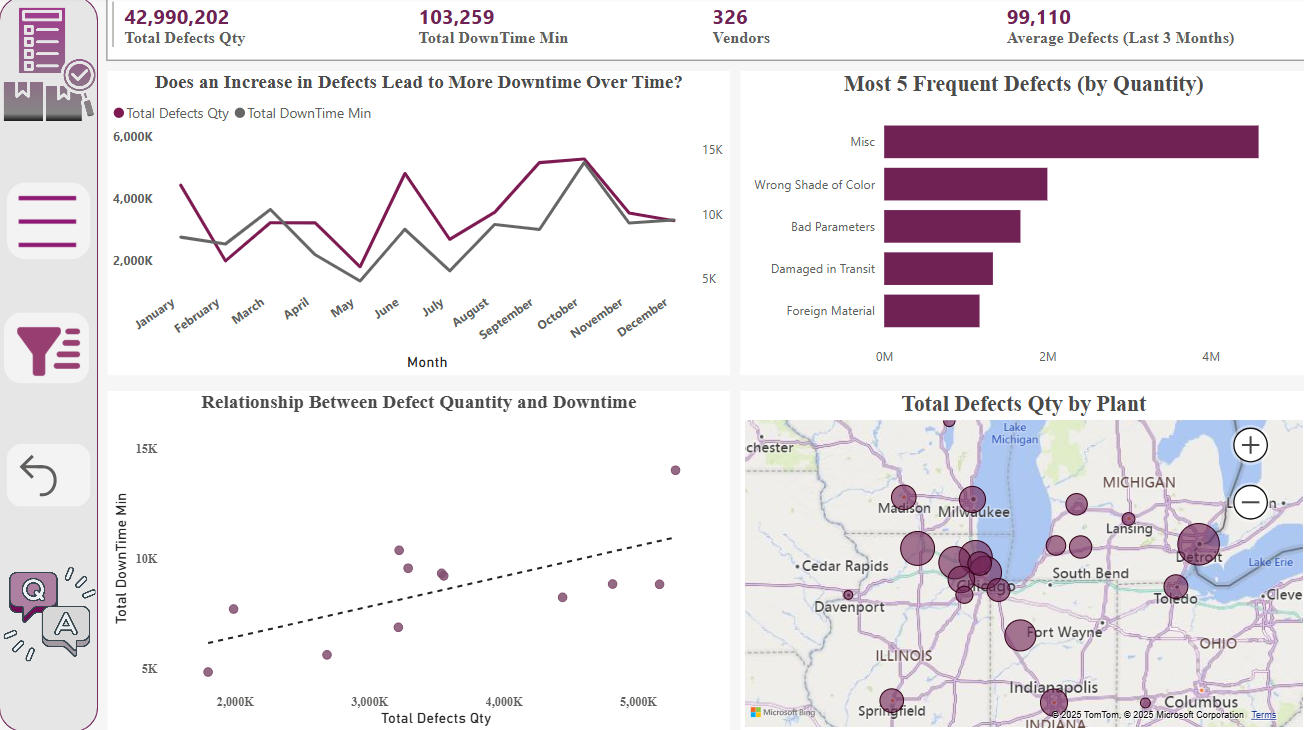

Layout of this report page (visuals, bound fields, positions):
{"tool":"powerbi","page":{"name":"OverView","canvas":[1280,720],"ordinal":1},"visuals":[{"type":"lineChart","title":"Does an Increase in Defects Lead to More Downtime Over Time?","fields":{"Category":["Dim_Calendar.Date.Variation.Date Hierarchy.Year","Dim_Calendar.Date.Variation.Date Hierarchy.Quarter","Dim_Calendar.Date.Variation.Date Hierarchy.Month","Dim_Calendar.Date.Variation.Date Hierarchy.Day"],"Y":["_Measure.Total Defects Qty"],"Y2":["_Measure.Total DownTime Min"]},"box":[105.9,73.3,608.6,297.6],"z":0},{"type":"multiRowCard","fields":{"Values":["_Measure.Total Defects Qty","_Measure.Total DownTime Min","_Measure.Vendors","_Measure.Rolling 3M Defect Avg"]},"box":[105.5,0,1174.3,63.3],"z":1000},{"type":"barChart","title":"Most 5 Frequent Defects (by Quantity)","fields":{"Y":["_Measure.Total Defects Qty"],"Category":["Dim_Defect.Defect"]},"box":[724.7,73.3,554.5,297.6],"z":2000},{"type":"map","fields":{"Category":["Dim_Plant.Plant"],"Size":["_Measure.Total Defects Qty"]},"box":[724.7,386.6,554.5,333.6],"z":3000},{"type":"scatterChart","title":"Relationship Between Defect Quantity and Downtime","fields":{"X":["_Measure.Total Defects Qty"],"Y":["_Measure.Total DownTime Min"],"Category":["Dim_Calendar.Date.Variation.Date Hierarchy.Year","Dim_Calendar.Date.Variation.Date Hierarchy.Quarter","Dim_Calendar.Date.Variation.Date Hierarchy.Month","Dim_Calendar.Date.Variation.Date Hierarchy.Day"]},"box":[105.9,386.6,608.6,333.6],"z":4000},{"type":"shape","box":[0,0,96.9,720.2],"z":5000},{"type":"actionButton","box":[6.8,437.3,82.3,62],"z":7000},{"type":"actionButton","box":[6.8,182.6,82.3,75.5],"z":8000},{"type":"image","box":[7.9,184.8,80,72.1],"z":9000},{"type":"actionButton","box":[4.5,310,83.4,69.9],"z":10000},{"type":"image","box":[9,310,78.9,76.6],"z":11000},{"type":"image","box":[0,0,99.2,134.1],"z":13000},{"type":"image","box":[0,553.9,99,101.5],"z":14000}]}

Visuals, with their boxes on the page's 1280x720 design canvas (x1, y1, x2, y2). These are canvas units, not pixel positions in the 1304x730 screenshot, which may show the page scaled, cropped or inside an application window:
"Does an Increase in Defects Lead to More Downtime Over Time?" lineChart: 106,73,714,371
multiRowCard - _Measure.Total Defects Qty x _Measure.Total DownTime Min: 106,0,1280,63
"Most 5 Frequent Defects (by Quantity)" barChart: 725,73,1279,371
map - Dim_Plant.Plant x _Measure.Total Defects Qty: 725,387,1279,720
"Relationship Between Defect Quantity and Downtime" scatterChart: 106,387,714,720
shape: 0,0,97,720
actionButton: 7,437,89,499
actionButton: 7,183,89,258
image: 8,185,88,257
actionButton: 4,310,88,380
image: 9,310,88,387
image: 0,0,99,134
image: 0,554,99,655
